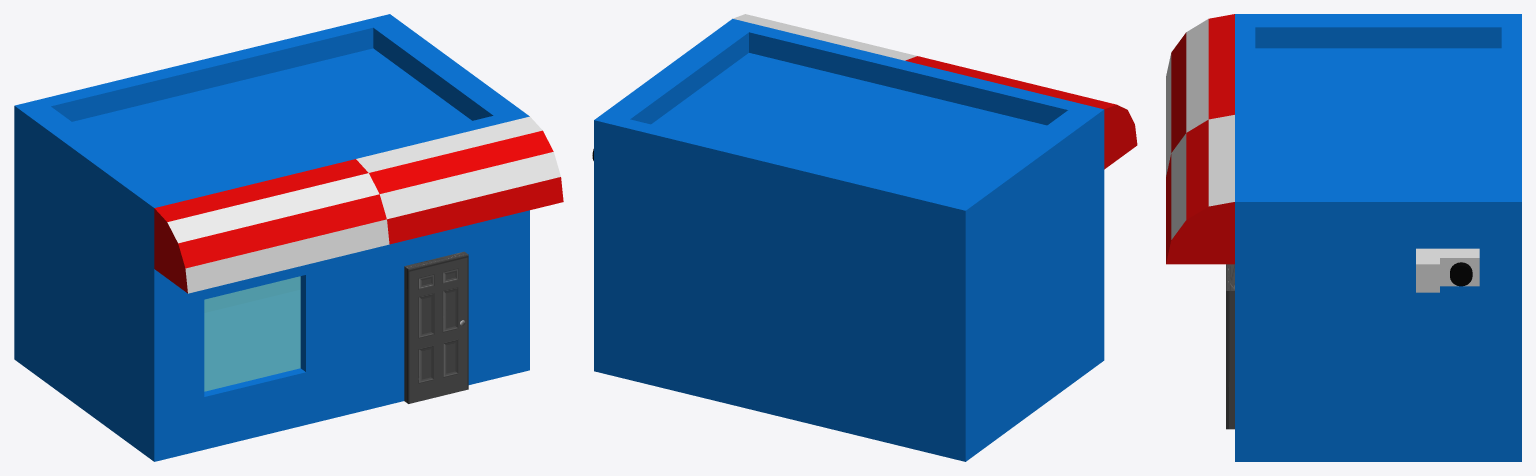
Rendered from house4.fbx.
The picture shows the model from 3 angles, left to right: view 1: azimuth 30°, elevation 25°; view 2: azimuth 150°, elevation 25°; view 3: azimuth 270°, elevation 25°; orthographic projection. The views are drawn at different scales.
Visible parts, largest first — view 1: house4; view 2: house4; view 3: house4.
Boxes of the visible parts, x1=… form: house4: x1=14, y1=14, x2=563, y2=461; house4: x1=592, y1=14, x2=1137, y2=461; house4: x1=1166, y1=14, x2=1521, y2=461.
Bounding box in the file's own units: 21.64 × 12.89 × 15.99.
8 materials, 1 textured.
